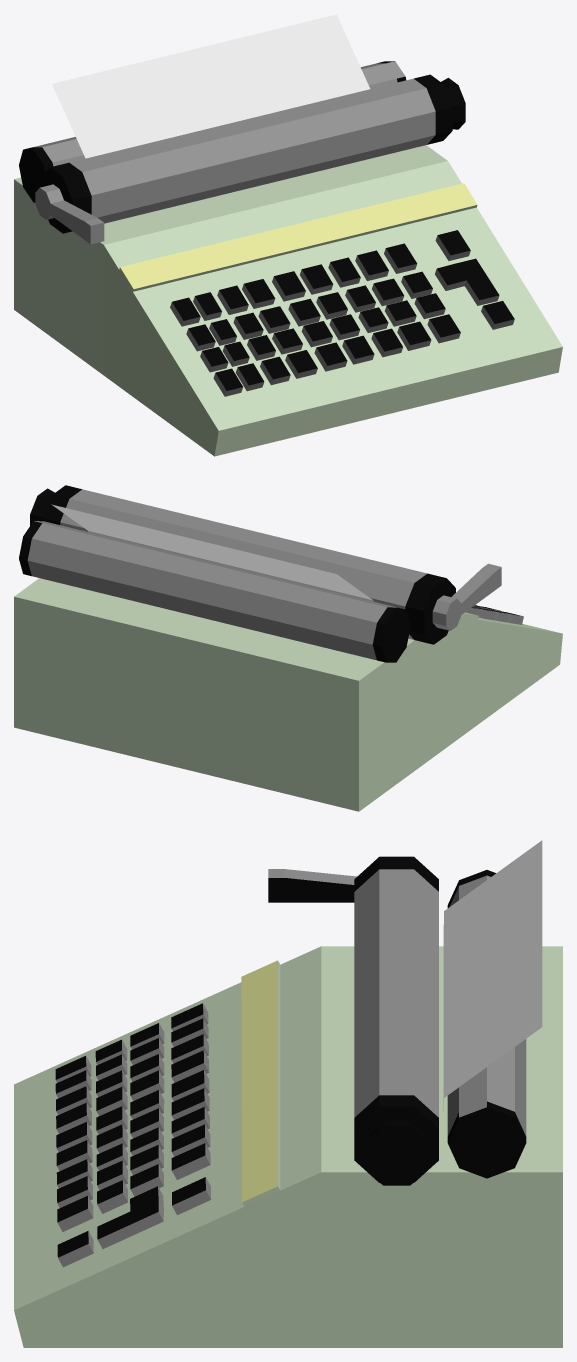
The model's file is MaquinaDeEscribir.fbx.
3 renders of one model, top to bottom at view 1: azimuth 30°, elevation 25°; view 2: azimuth 150°, elevation 25°; view 3: azimuth 270°, elevation 25°, orthographic. The views are drawn at different scales.
Parts seen in each view (by area): view 1: MaquinaDeEscribir; view 2: MaquinaDeEscribir; view 3: MaquinaDeEscribir.
Part boxes in pixels (x1,y1,x2,y2): MaquinaDeEscribir: (14,14,562,456); MaquinaDeEscribir: (14,485,562,811); MaquinaDeEscribir: (14,840,562,1347).
Bounding box in the file's own units: 238 × 124 × 205.
